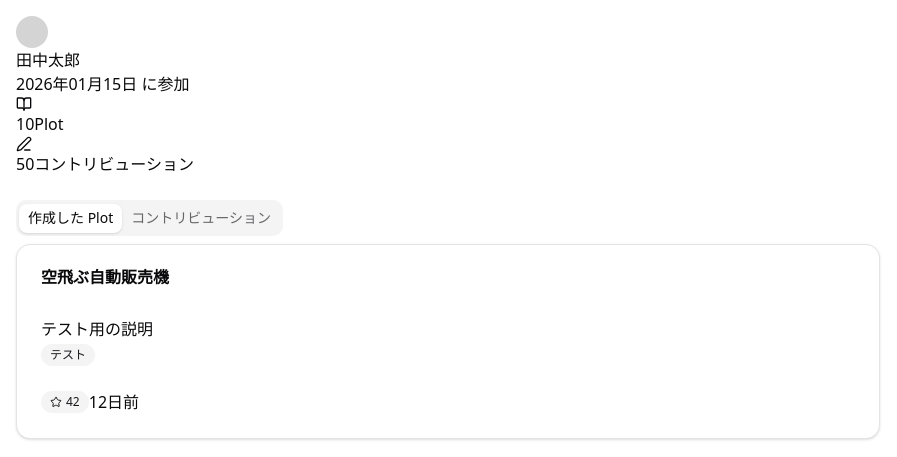
ProfilePage › タブ切り替えで「コントリビューション」のデータが表示される
Check: the heading "田中太郎" is shown, box x1=16 y1=49 x2=80 y2=71
Click the tab "コントリビューション" at coordinates (201, 218), box x1=122 y1=204 x2=280 y2=232
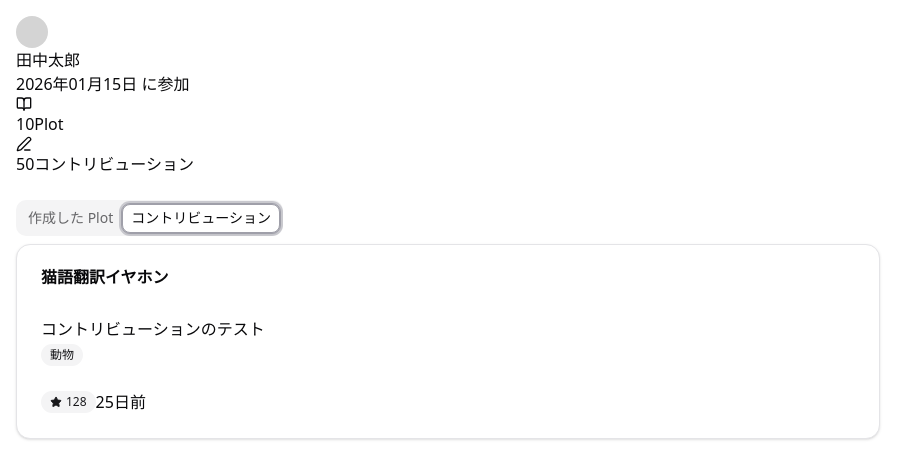
Check: the heading "猫語翻訳イヤホン" is shown, box x1=41 y1=266 x2=168 y2=288
